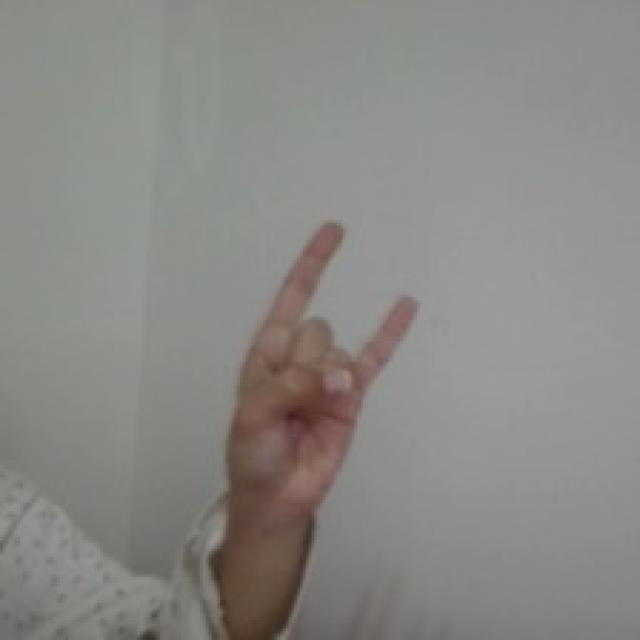No: (220, 213, 428, 519)
